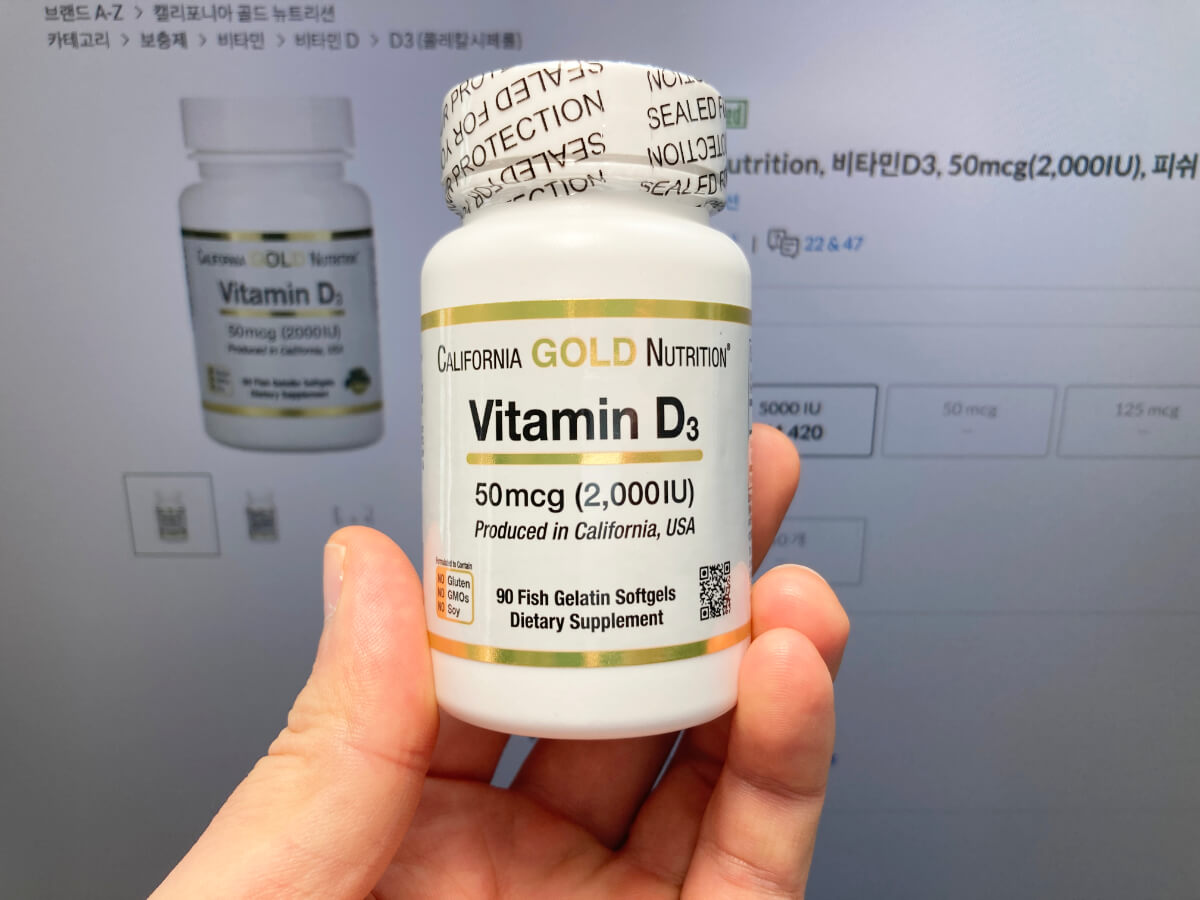supplement_label: (409, 280, 768, 671)
